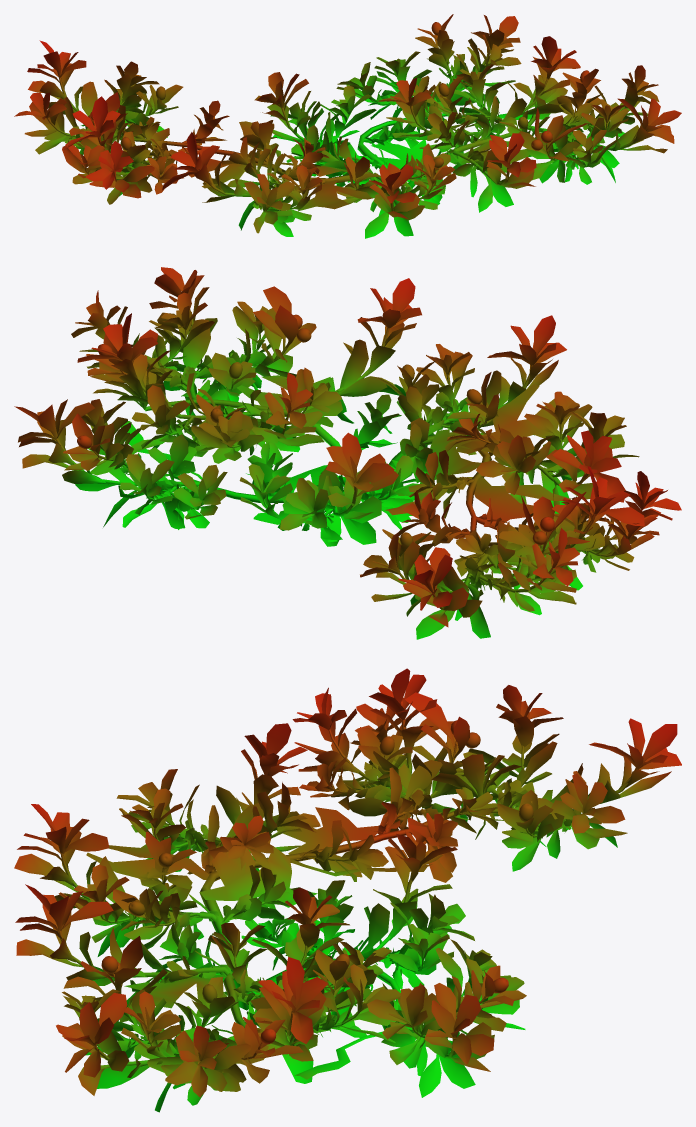
The model's file is Alpine Bearberry_LOD2_Var13_xb0gdazqx.fbx.
3 views of the same model, one above another, from view 1: azimuth 30°, elevation 25°; view 2: azimuth 150°, elevation 25°; view 3: azimuth 270°, elevation 25° (orthographic). The views are drawn at different scales.
Visible parts, largest first — view 1: _thl5_Var13_LOD2; view 2: _thl5_Var13_LOD2; view 3: _thl5_Var13_LOD2.
Boxes of the visible parts, bbox=[...] form: _thl5_Var13_LOD2: bbox=[14, 14, 681, 238]; _thl5_Var13_LOD2: bbox=[14, 267, 681, 639]; _thl5_Var13_LOD2: bbox=[14, 668, 681, 1112].
Size of the model in its own units: 64.87 by 14.69 by 50.94.
